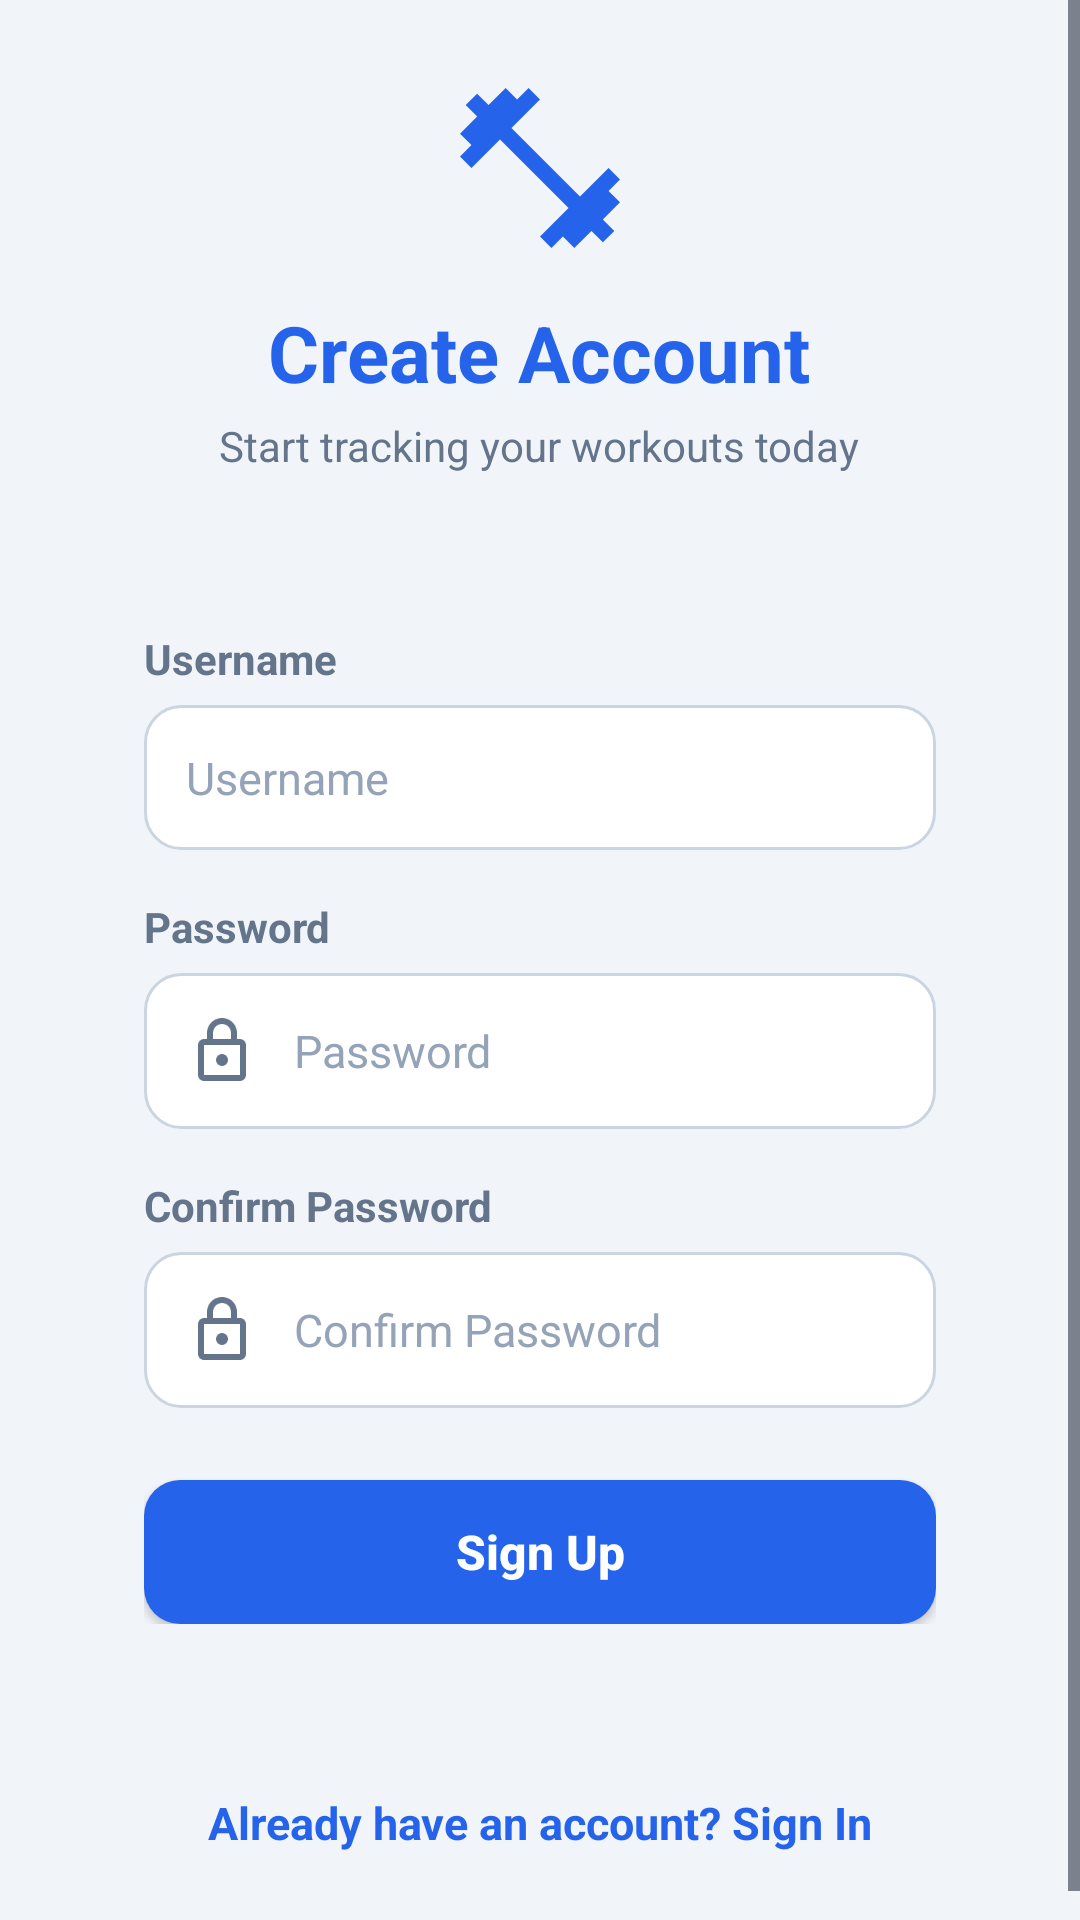

Named icons in this screenshot (1080x1920) and their centers, (x,y):
fitness center: (540,168)
